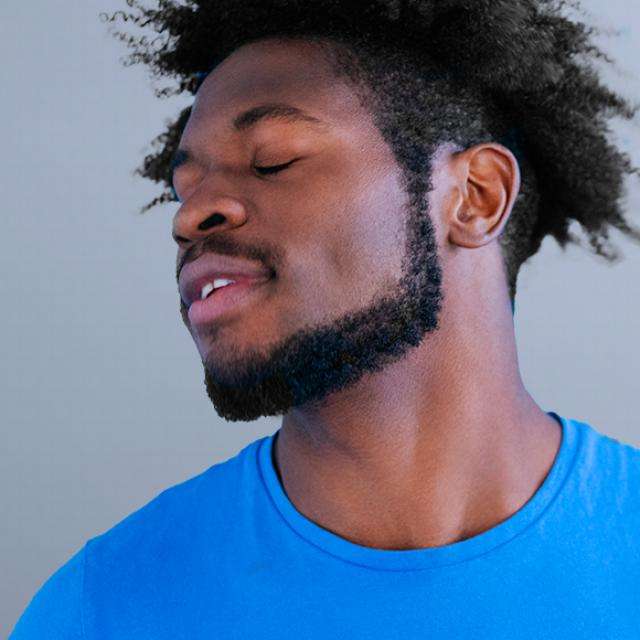beard: (205, 107, 442, 418)
hair: (132, 0, 639, 318)
